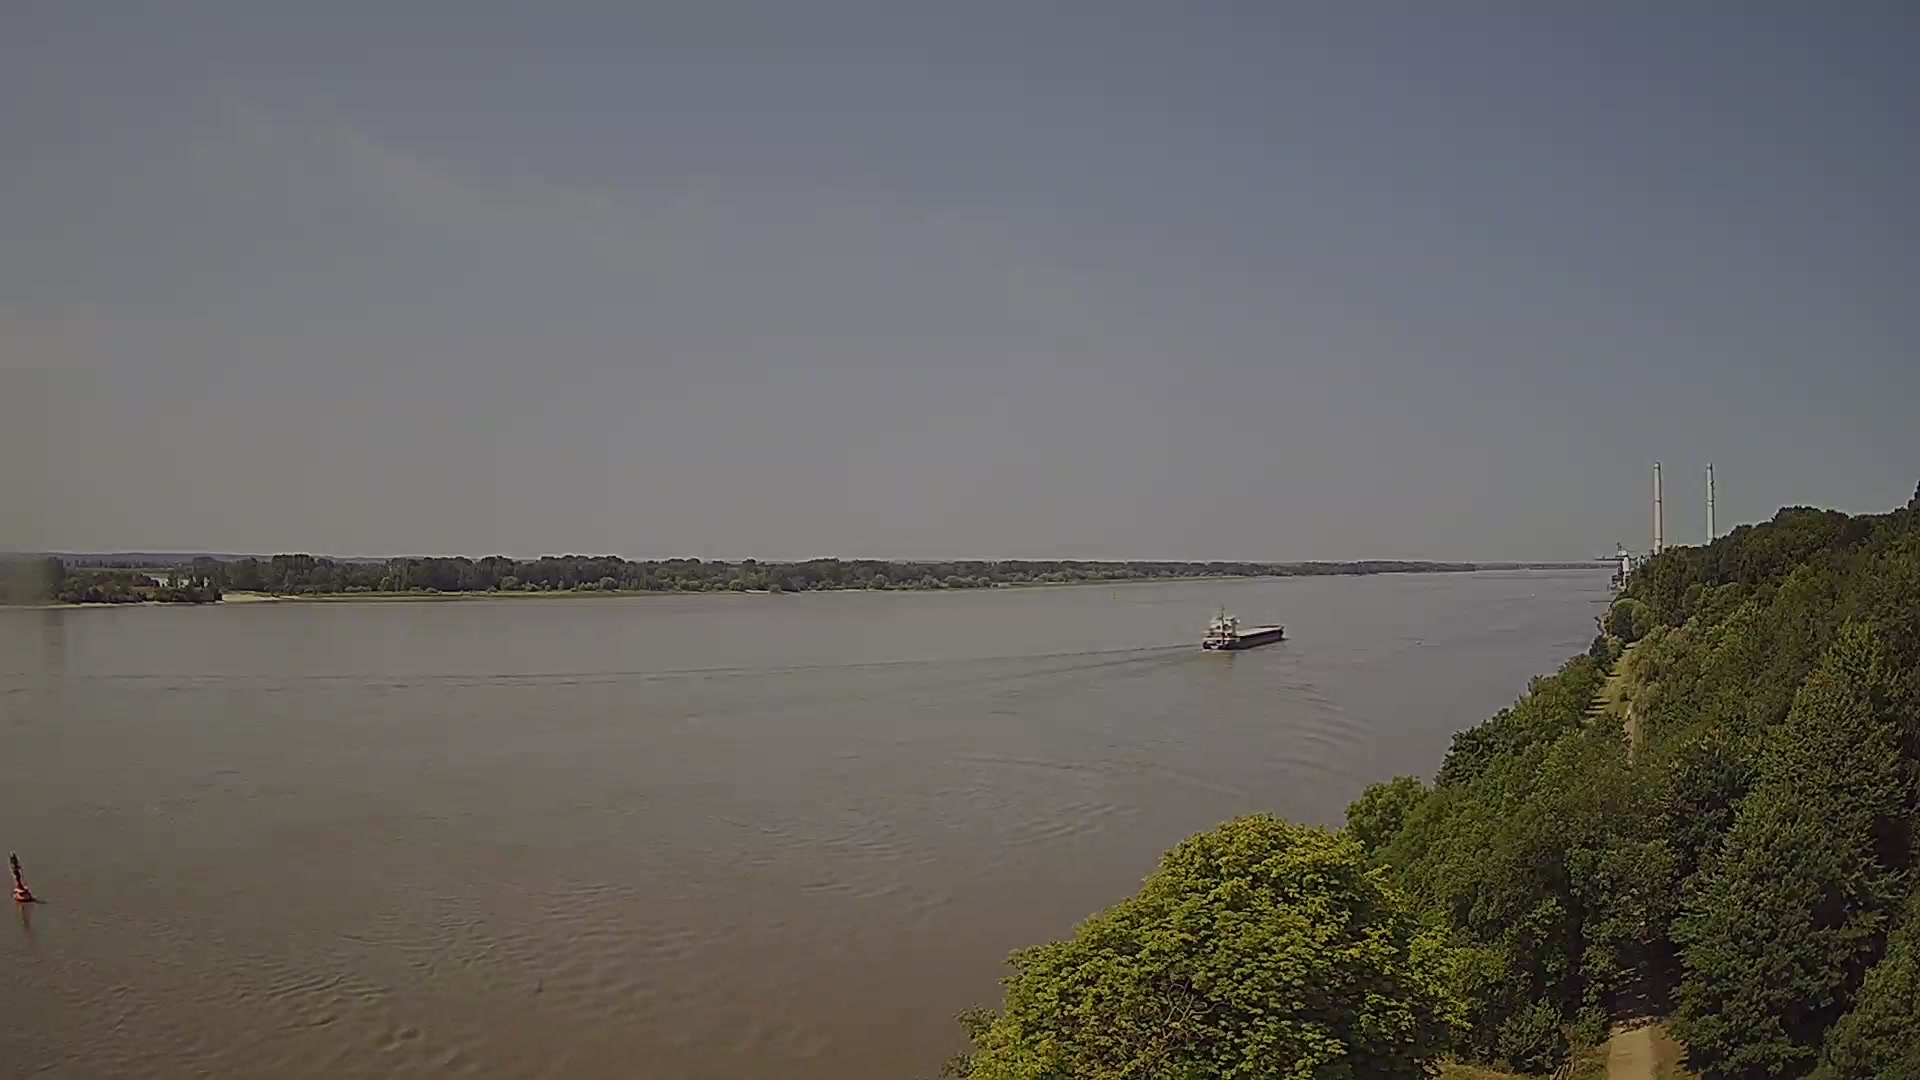sea: (1200, 603, 1284, 650)
